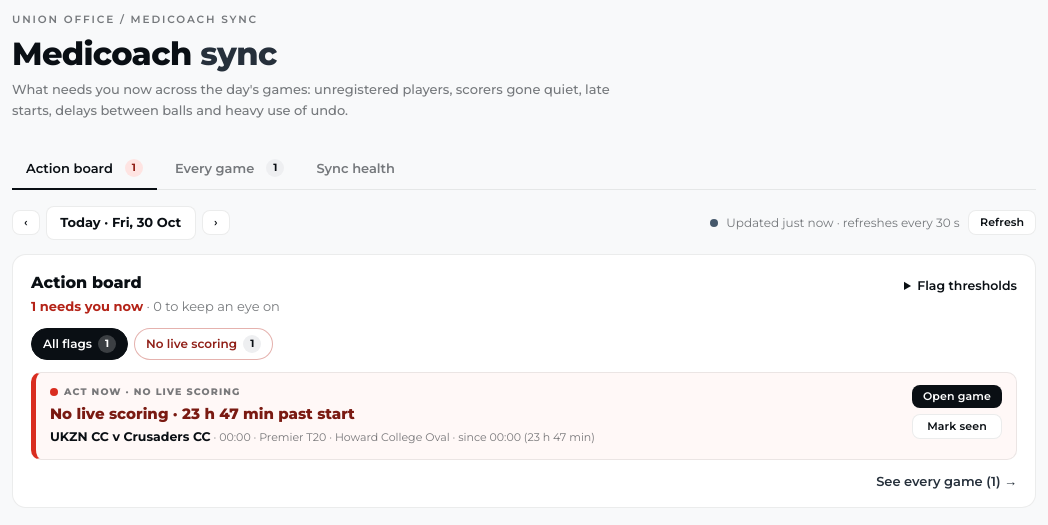
match monitor tab › opens on the action board; Every game lists the day on the same data
Check: the tab "Action board 1" is shown, box [12,148,157,190]
Check: the element with test id "mm-board" is shown, box [12,254,1036,508]
Click the tab "Every game 1": (230, 169) [161,148,298,190]
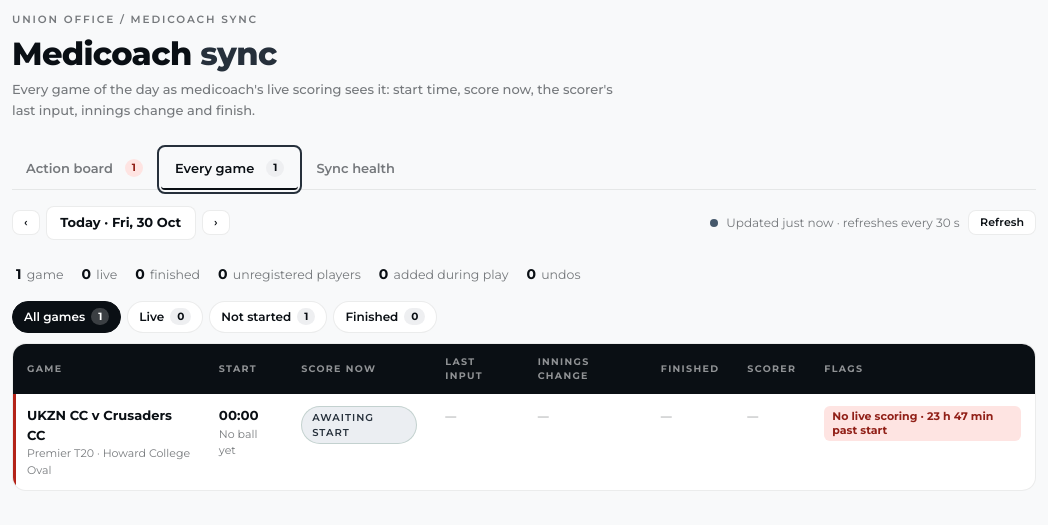
Check: the button "UKZN CC v Crusaders CC" is shown, box [27,406,191,445]
Check: the element with test id "mm-board" is gone
